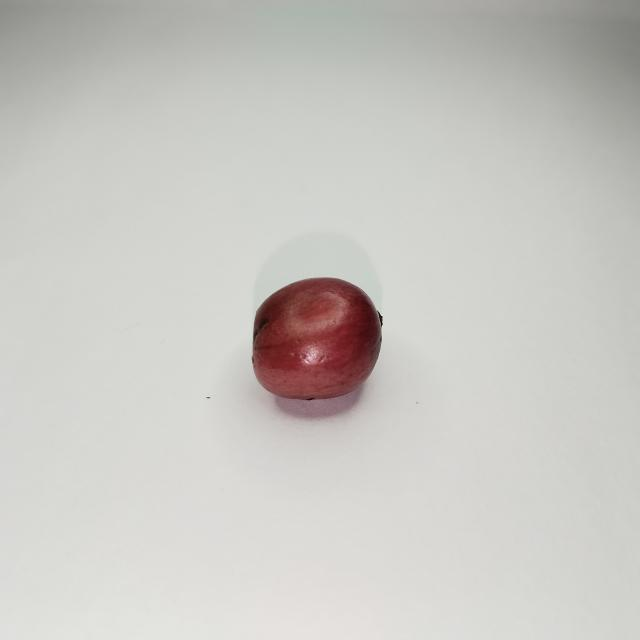Sano: (253, 277, 382, 400)
